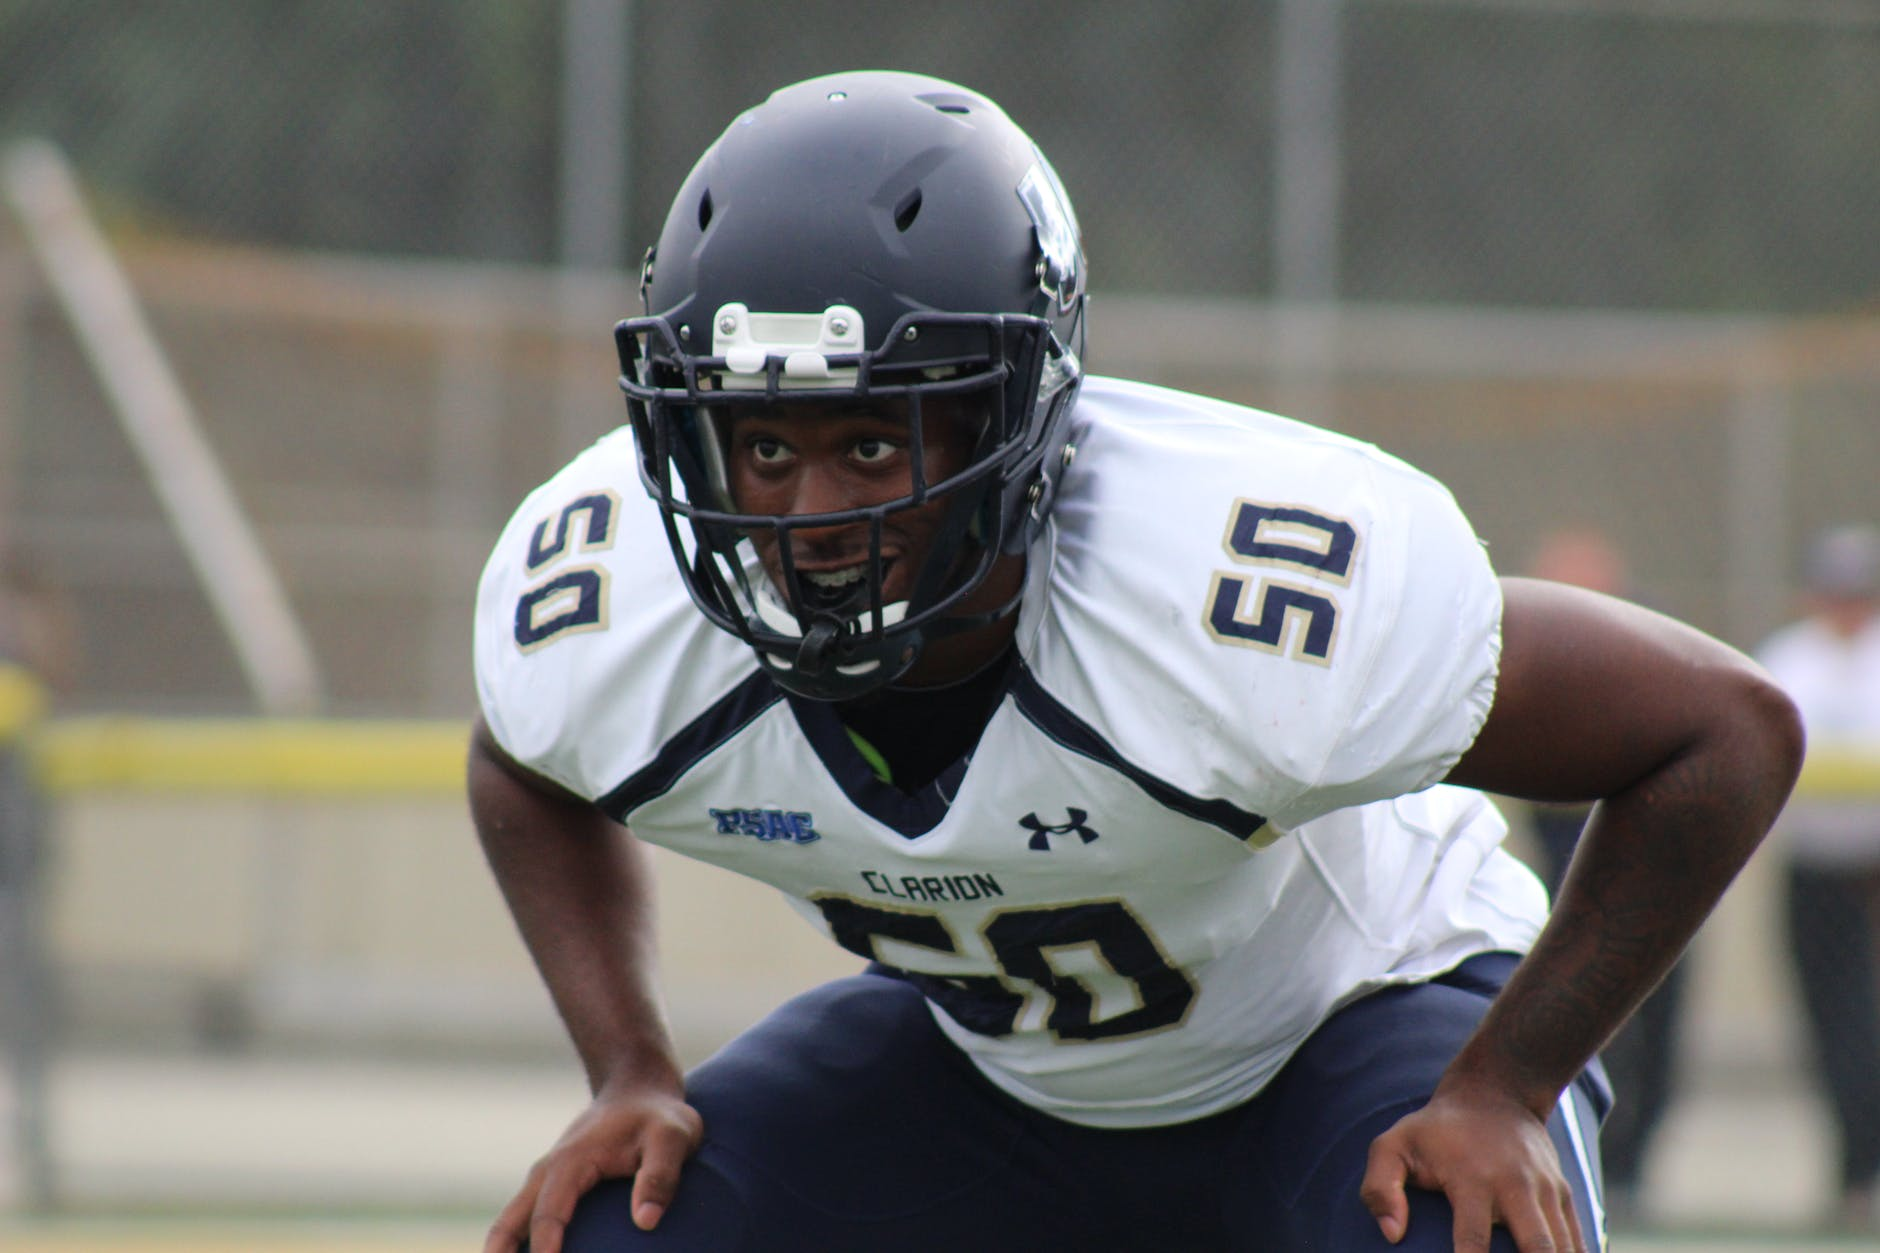helmet: (628, 78, 1083, 575)
